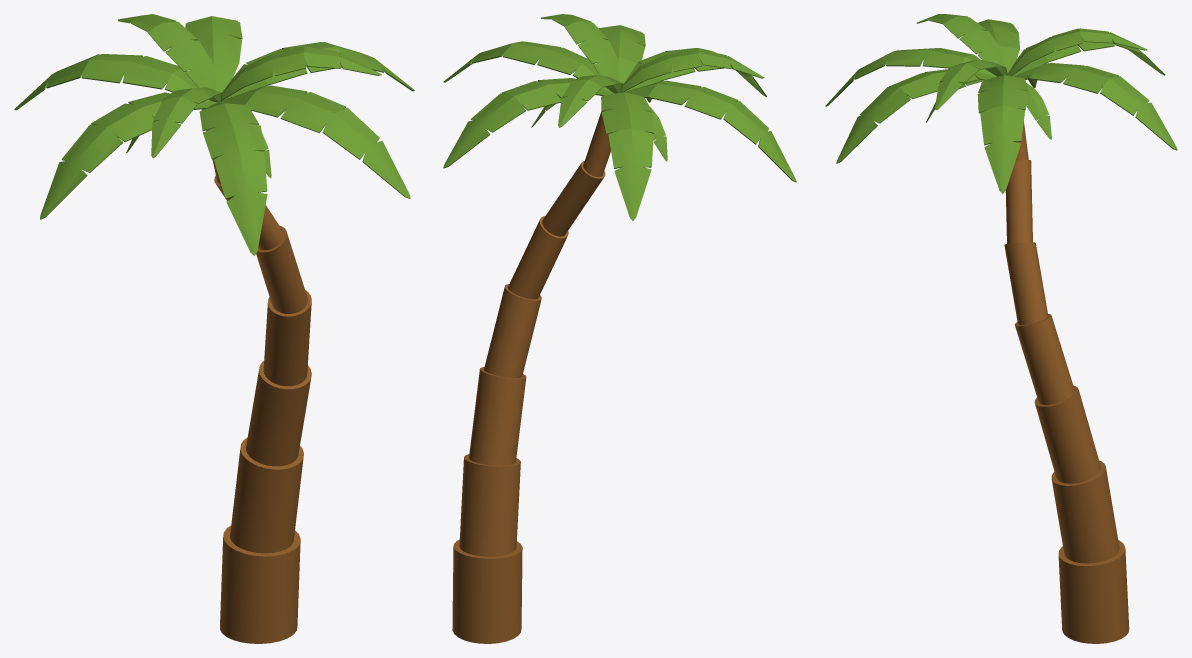
Rendered from Palm2.fbx.
3 renders of one model, left to right at view 1: azimuth 30°, elevation 25°; view 2: azimuth 150°, elevation 25°; view 3: azimuth 270°, elevation 25°, orthographic. The views are drawn at different scales.
Parts seen in each view (by area): view 1: Palm; view 2: Palm; view 3: Palm.
Part boxes in pixels (x1,y1,x2,y2): Palm: [14, 14, 414, 643]; Palm: [443, 14, 796, 643]; Palm: [825, 14, 1177, 643].
Bounding box in the file's own units: 219 × 345 × 199.
